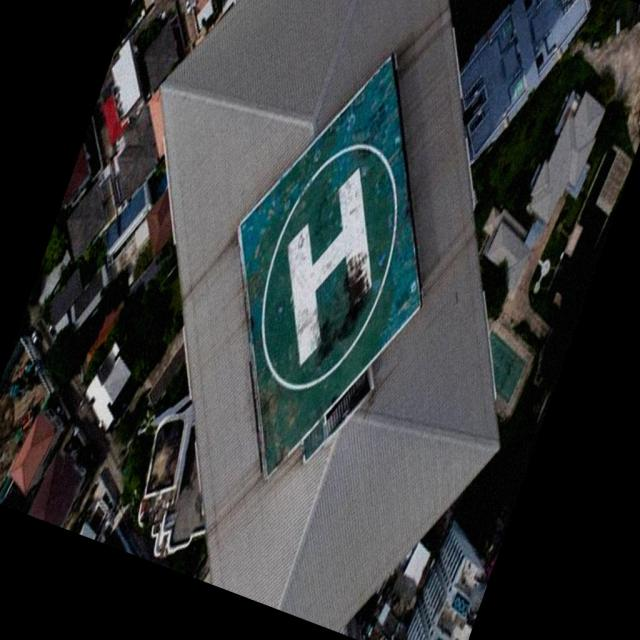helipad: (256, 142, 400, 394)
